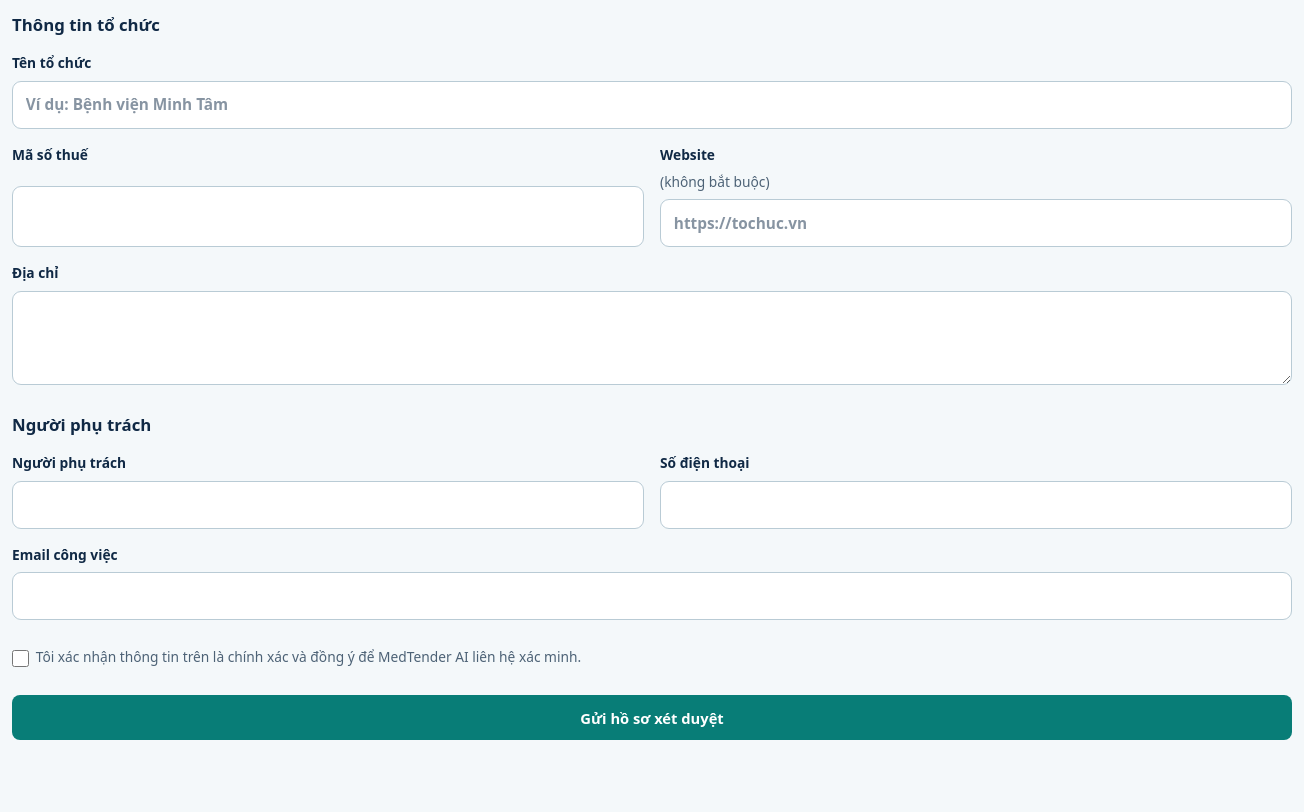
Test: submits an organization application and shows its tracking reference
Type "Bệnh viện Minh Tâm" into the field labelled "Tên tổ chức". click: (652, 105)
box: [12,80,1292,129]
Type "0312345678" into the field labelled "Mã số thuế". click: (328, 216)
box: [12,186,644,247]
Type "12 Nguyễn Huệ, TP.HCM" into the text box labelled "Địa chỉ". click: (652, 338)
box: [12,291,1292,385]
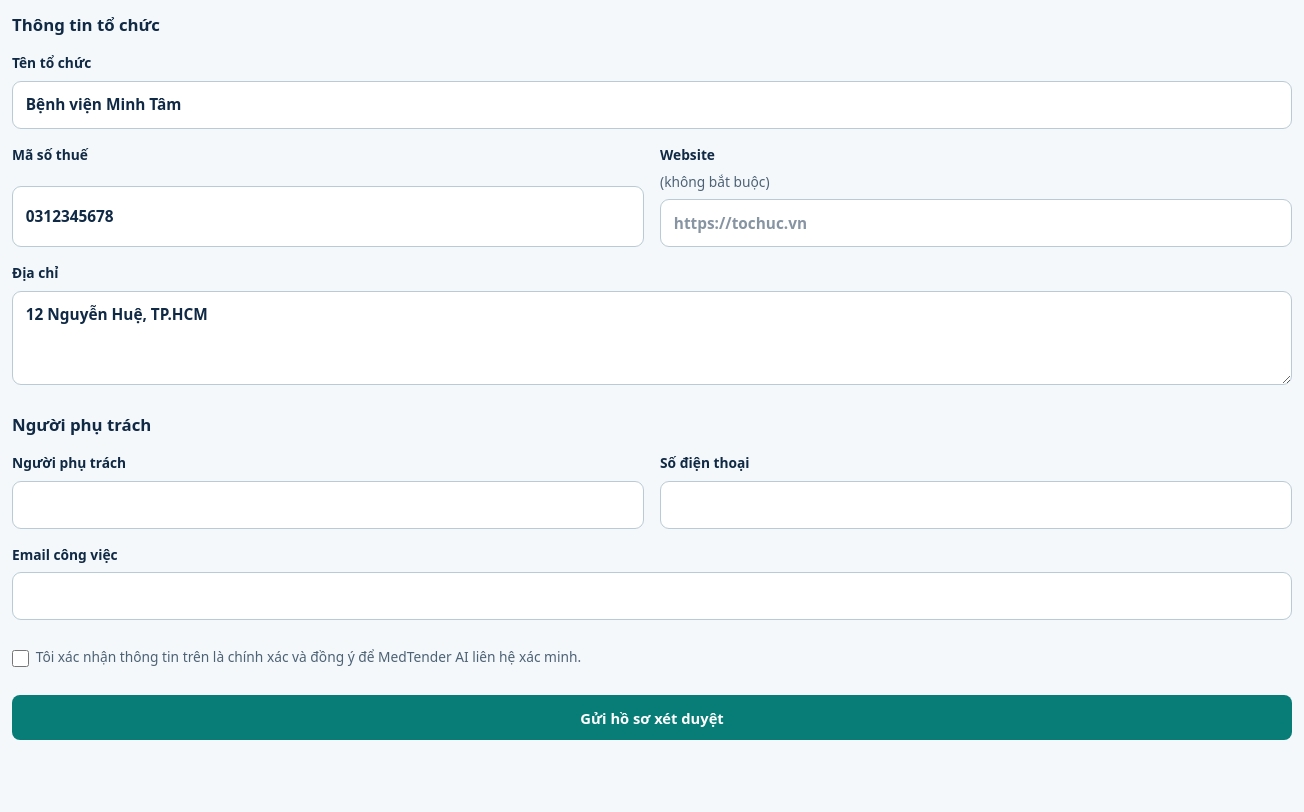
Type "Nguyễn Minh Anh" into the field labelled "Người phụ trách". click: (328, 505)
box: [12,481,644,529]
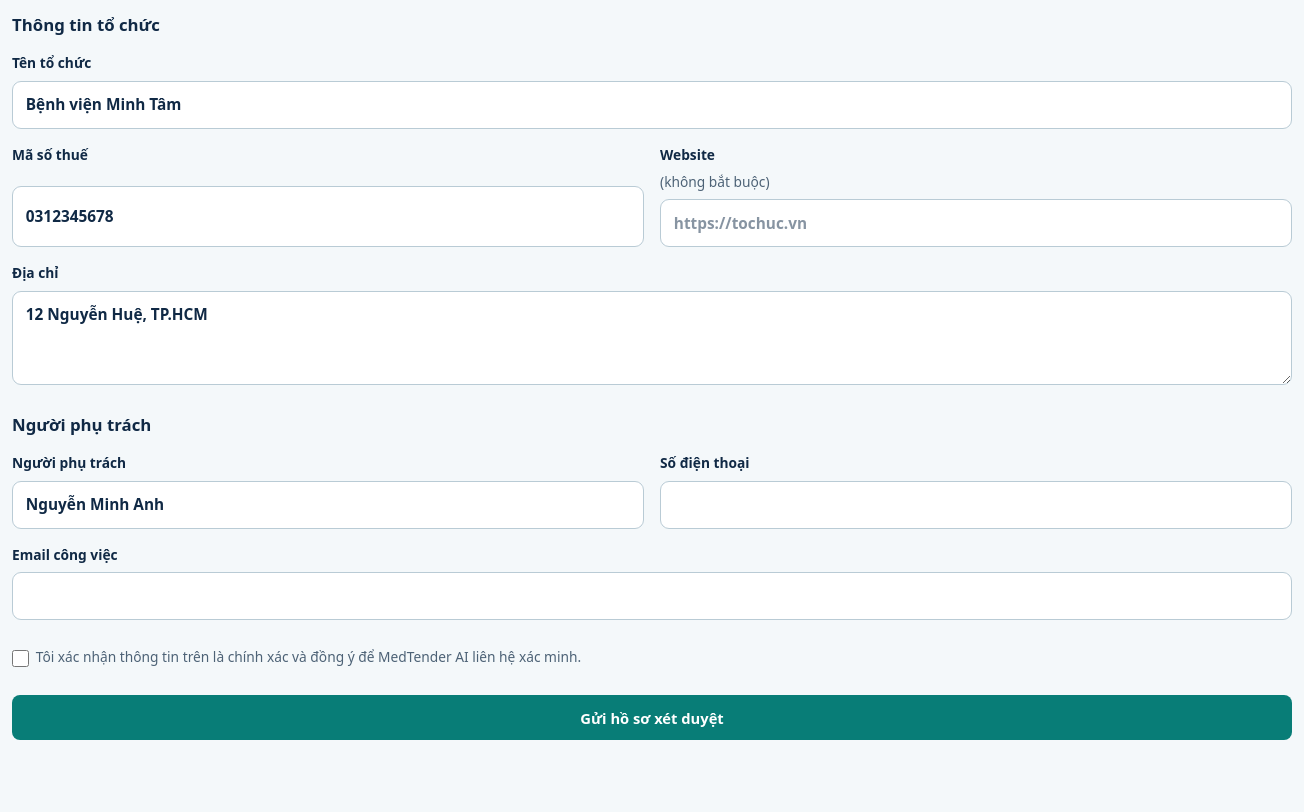
Type "minhanh@example.test" into the field labelled "Email công việc". click: (652, 596)
box: [12,572,1292,620]
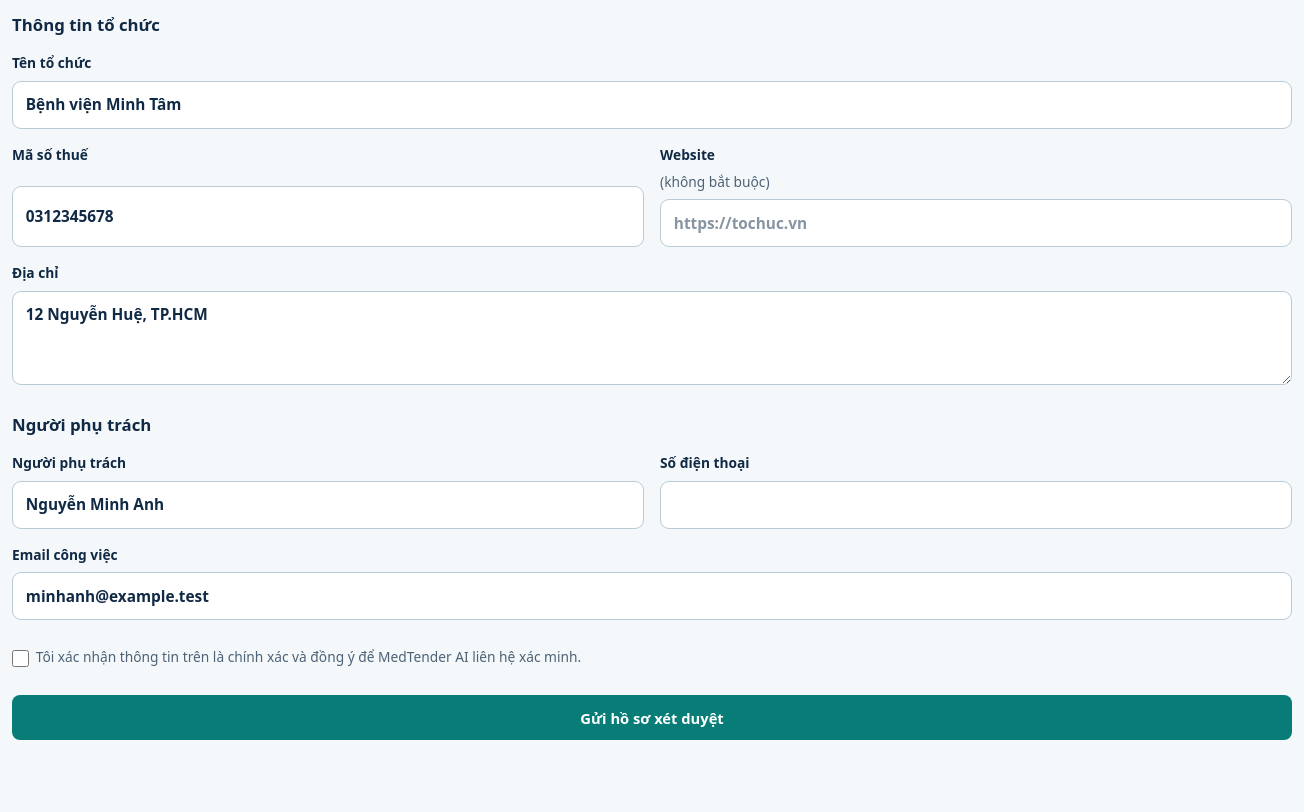
Type "0901234567" into the field labelled "Số điện thoại". click: (976, 505)
box: [660,481,1292,529]
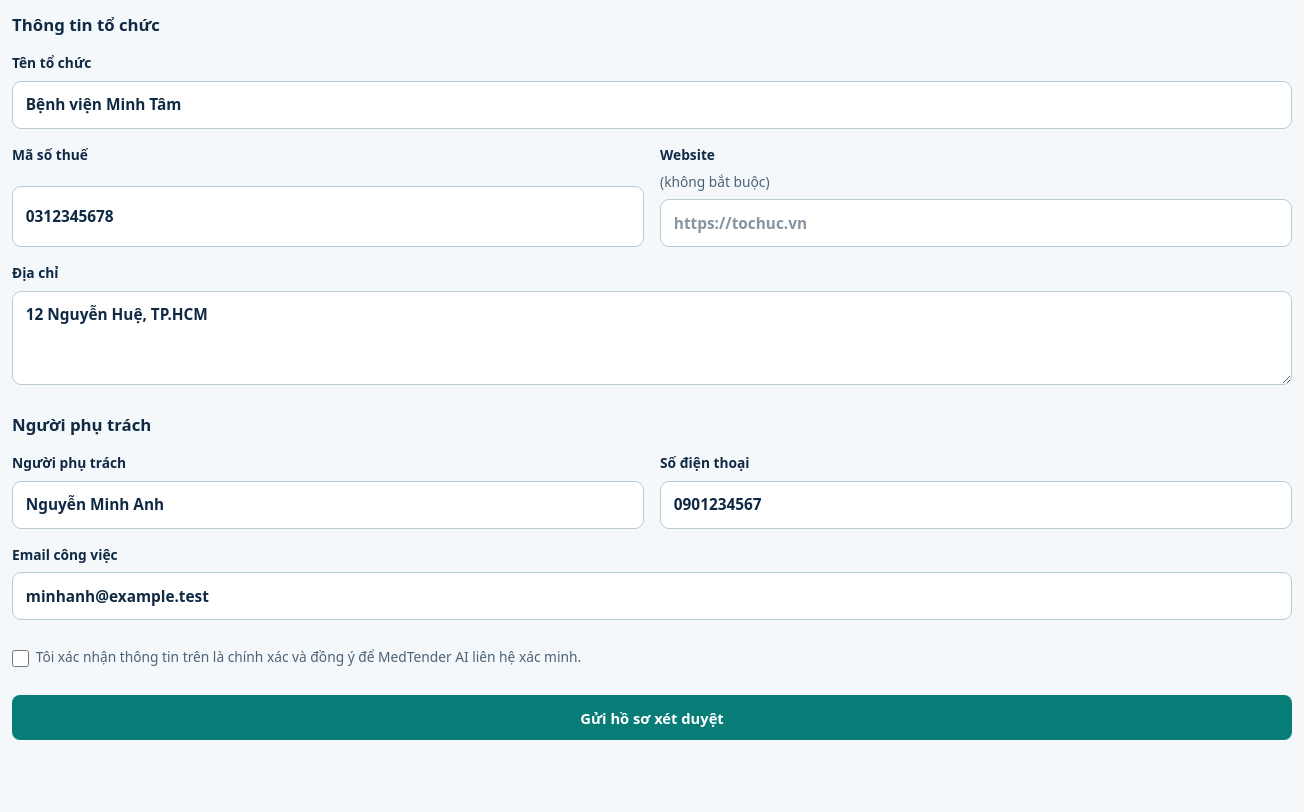
Click the checkbox. click: click(20, 658)
box: [12,650,29,667]
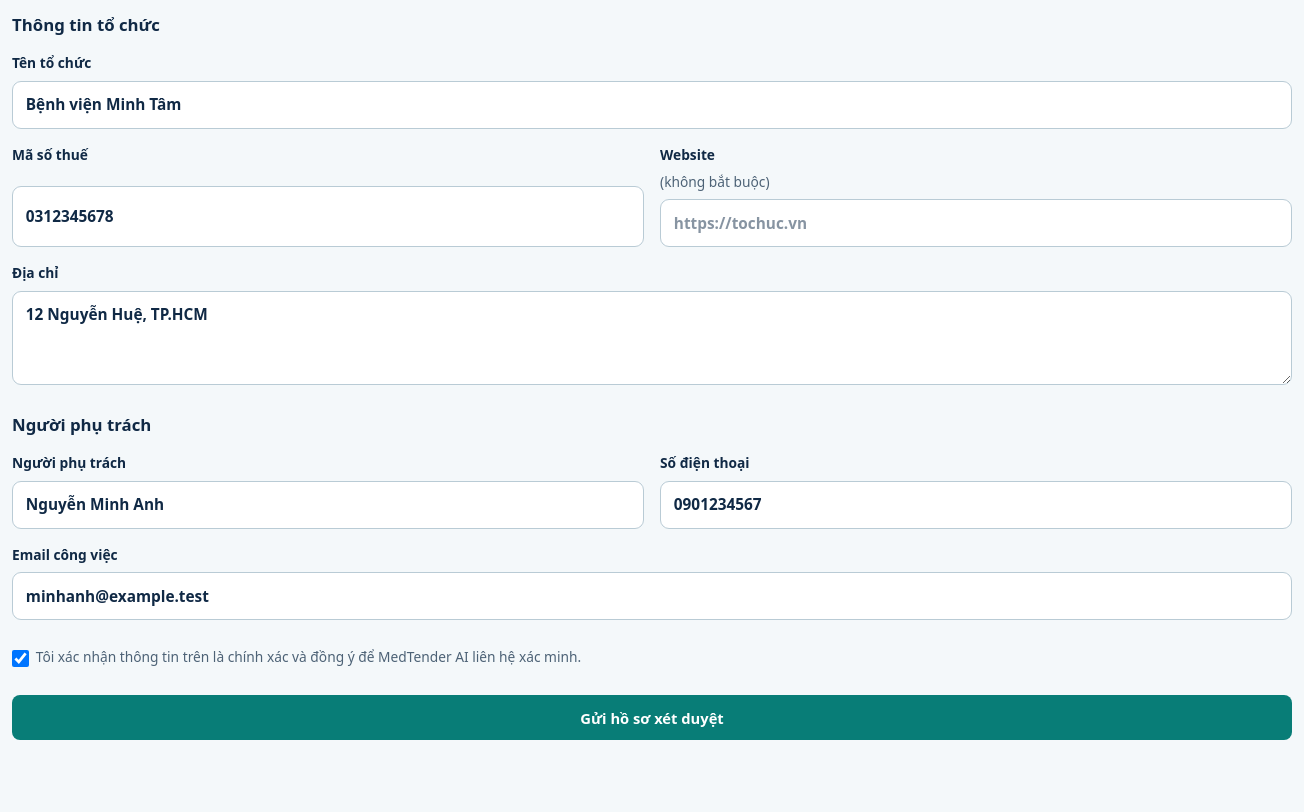
Click the button "Gửi hồ sơ xét duyệt". click: click(652, 718)
box: [12,695,1292,740]
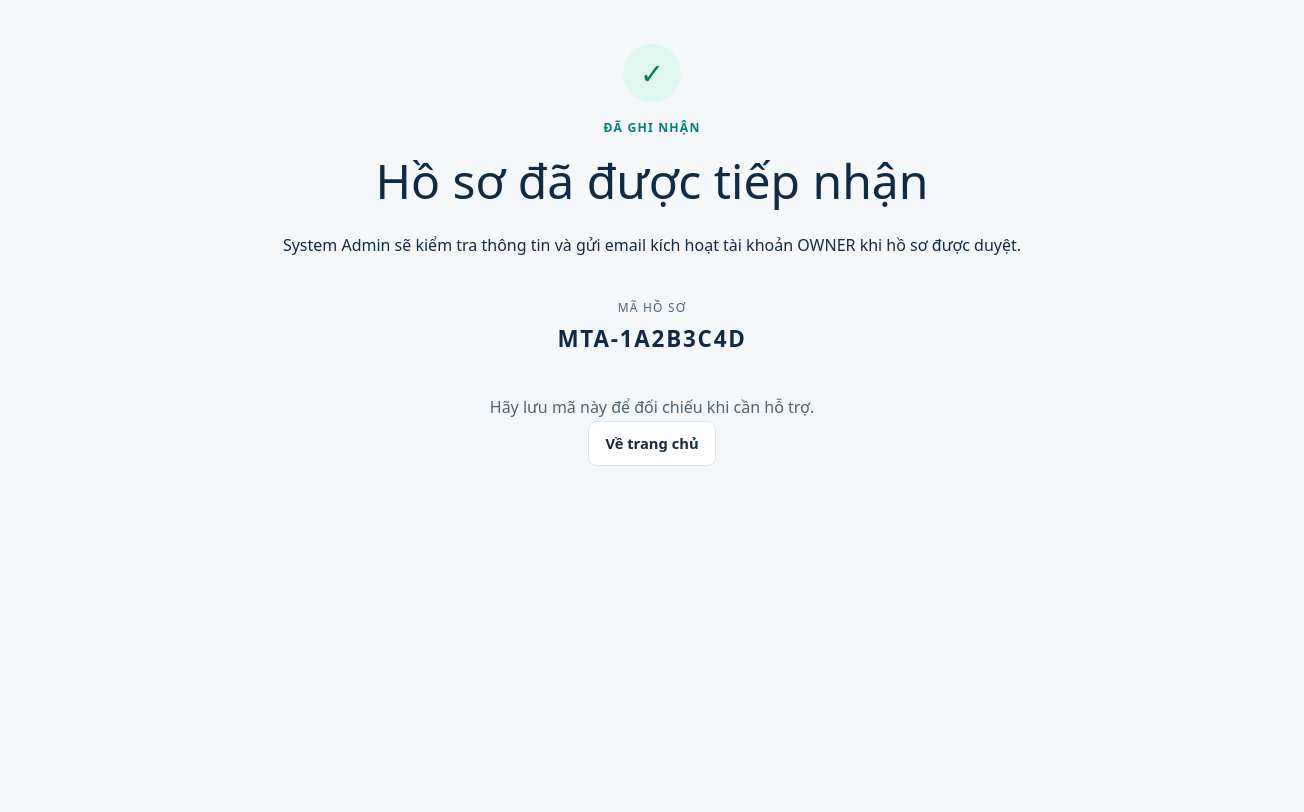
expect the heading "Hồ sơ đã được tiếp nhận" is shown: met, box [376,148,928,213]
expect the text "MTA-1A2B3C4D" is shown: met, box [557,323,747,354]
